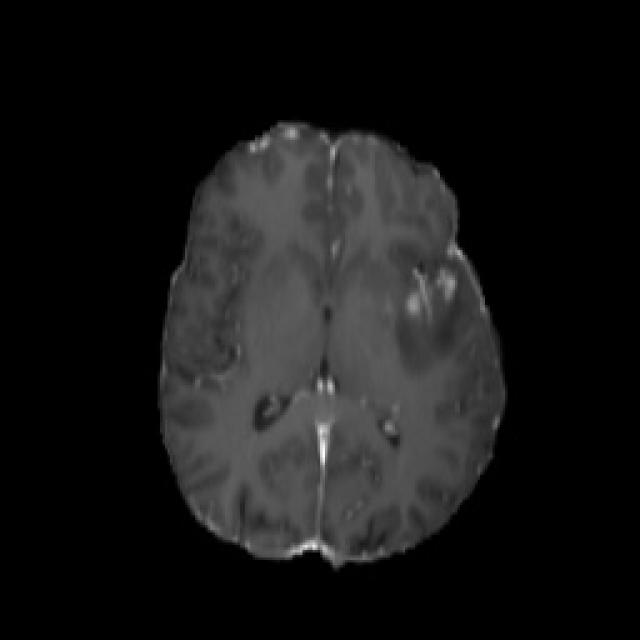negative: (402, 265, 460, 323)
